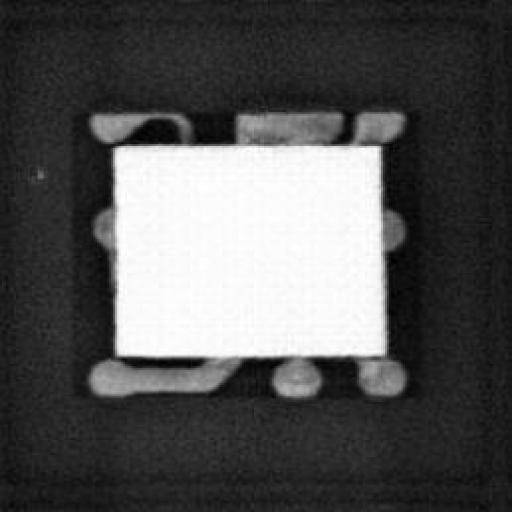DIE_INK: (28, 161, 48, 178)
